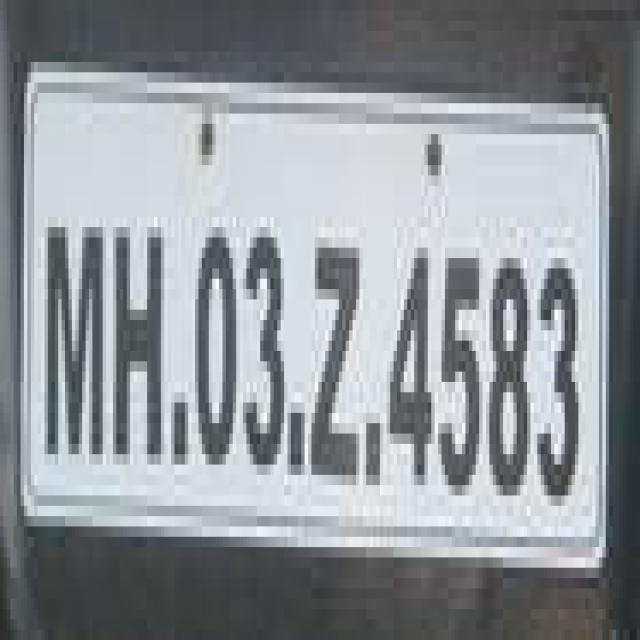license_plate: (14, 72, 602, 568)
